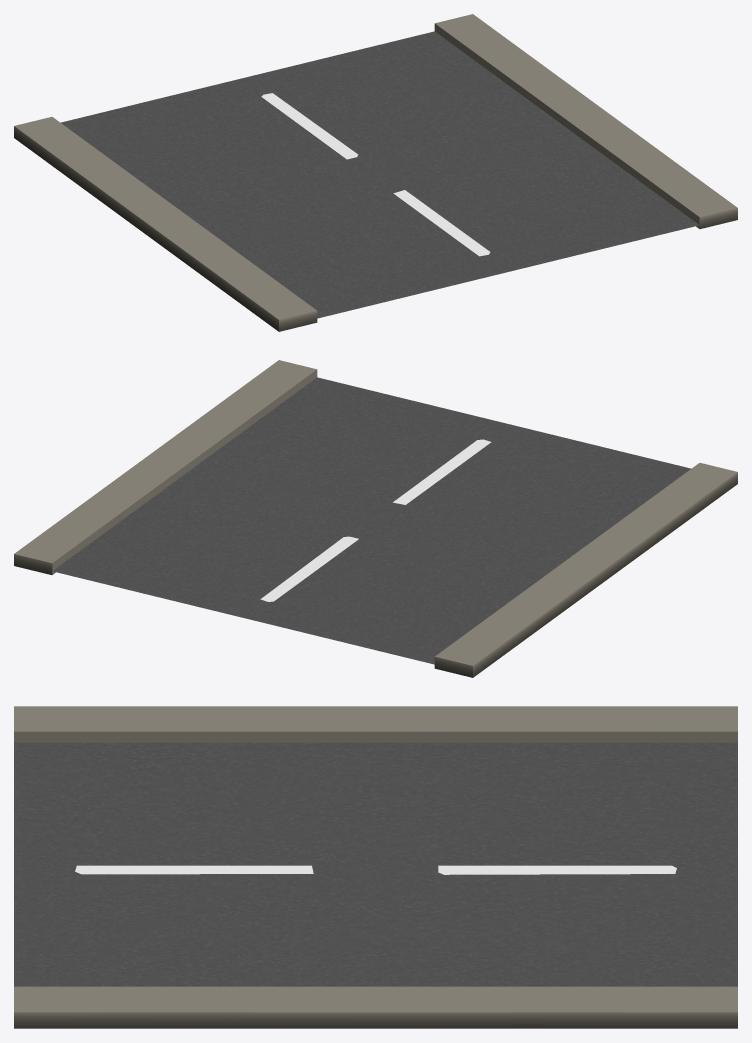
3 renders of one model, top to bottom at view 1: azimuth 30°, elevation 25°; view 2: azimuth 150°, elevation 25°; view 3: azimuth 270°, elevation 25°, orthographic. The views are drawn at different scales.
Visible parts, largest first — view 1: Road_1A; view 2: Road_1A; view 3: Road_1A.
Boxes of the visible parts, box(x1,y1,x2,y2) form: Road_1A: box(14, 14, 737, 331); Road_1A: box(14, 360, 737, 677); Road_1A: box(14, 706, 737, 1028).
Bounding box in the file's own units: 14949 × 374 × 14949.
